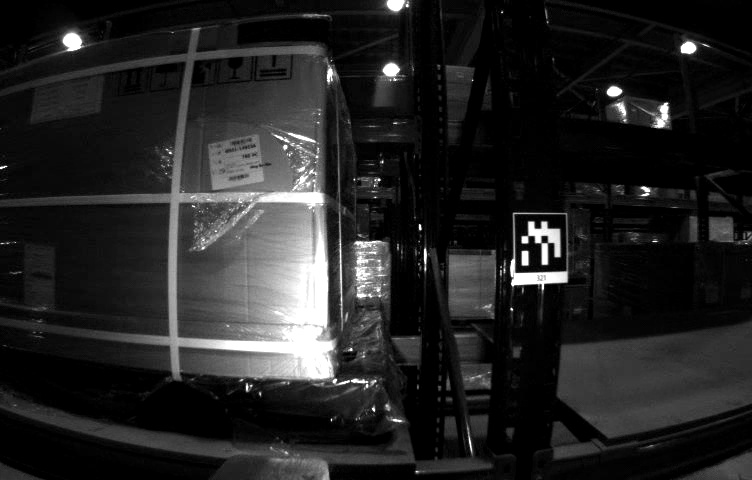True Barcode: (210, 133, 262, 189)
